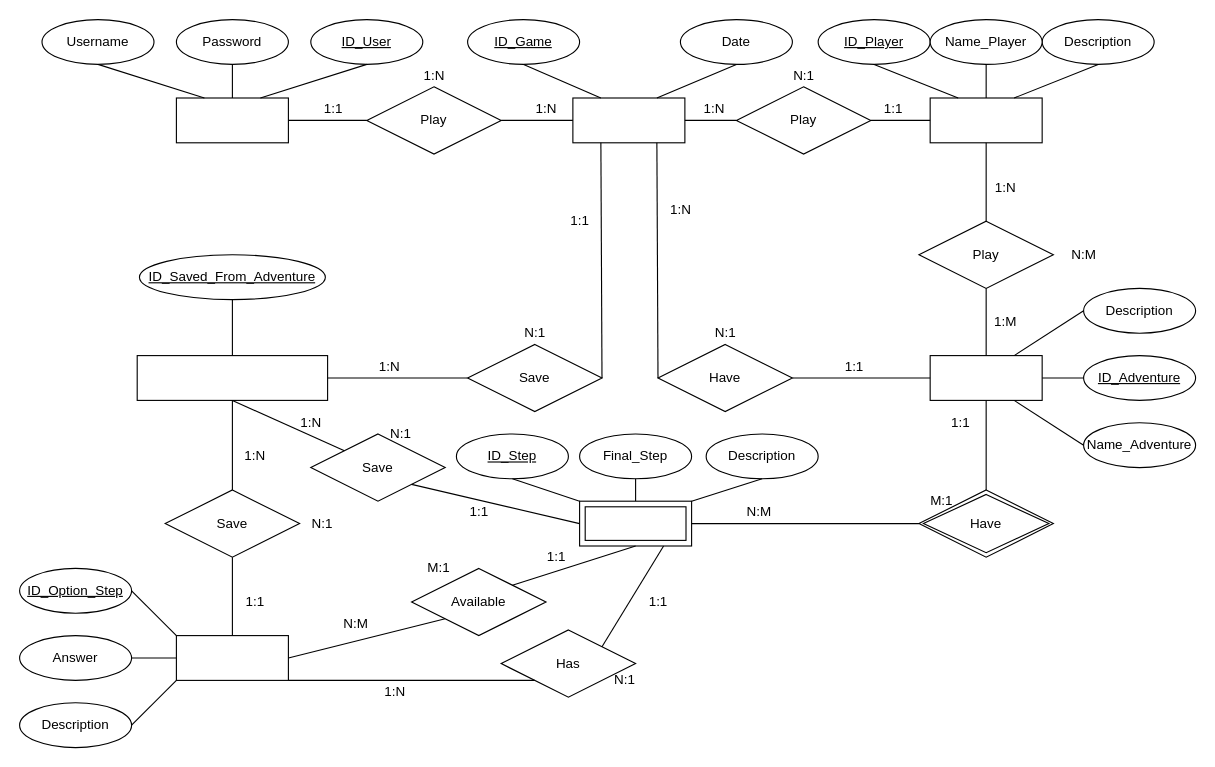
Some shapes in this 1215 by 767 pixel diagram are drawn without their labels. The shapes that lost their labels are listed below. From the top down, each one's centre as x and y in pixels, then its label:
(231,120): USER
(628,120): GAME
(985,120): PLAYER
(232,377): SAVED_FROM_ADVENTURE
(985,377): ADVENTURE
(635,523): STEP
(231,657): OPTION_STEP
